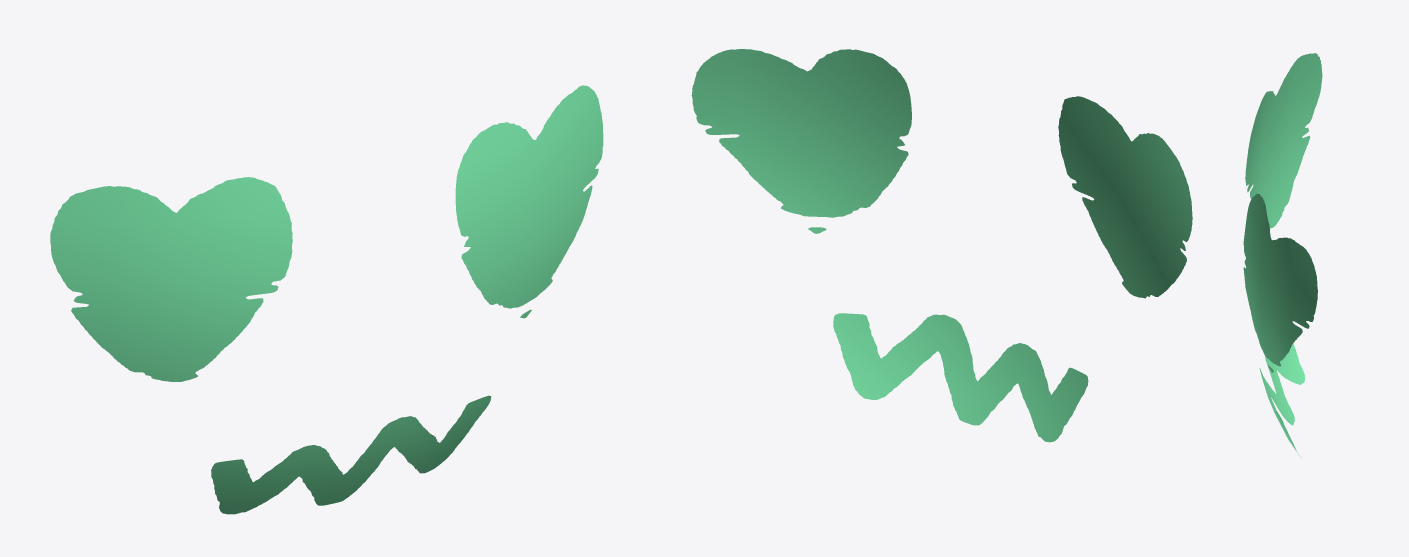
Rendered from Error Robot Face.fbx.
3 views of the same model, side by side, from view 1: azimuth 30°, elevation 25°; view 2: azimuth 150°, elevation 25°; view 3: azimuth 270°, elevation 25° (orthographic). The views are drawn at different scales.
Parts seen in each view (by area): view 1: Love Robot; view 2: Love Robot; view 3: Love Robot.
Part boxes in pixels (left/top/right/bottom): Love Robot: left=50, top=85, right=603, bottom=514; Love Robot: left=691, top=49, right=1192, bottom=442; Love Robot: left=1243, top=53, right=1322, bottom=458.
Bounding box in the file's own units: 41.44 × 27.24 × 12.01.
